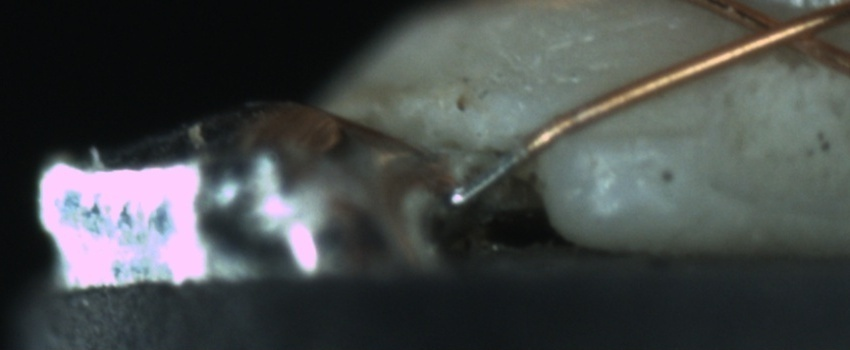CL: (717, 0, 845, 64)
DL: (574, 106, 702, 169)
TS: (448, 145, 530, 209)
